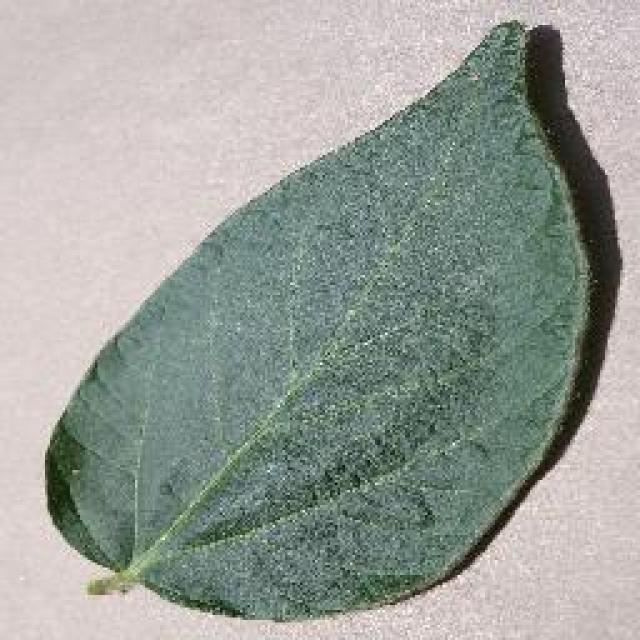Soy_healthy: (75, 168, 576, 588)
